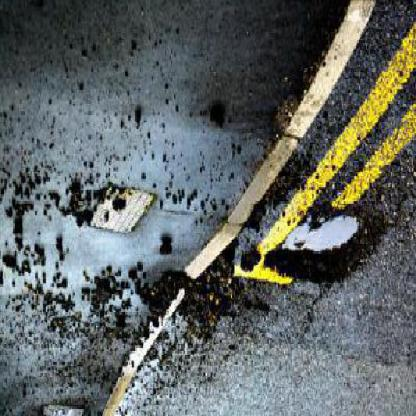pothole: (264, 205, 387, 288)
